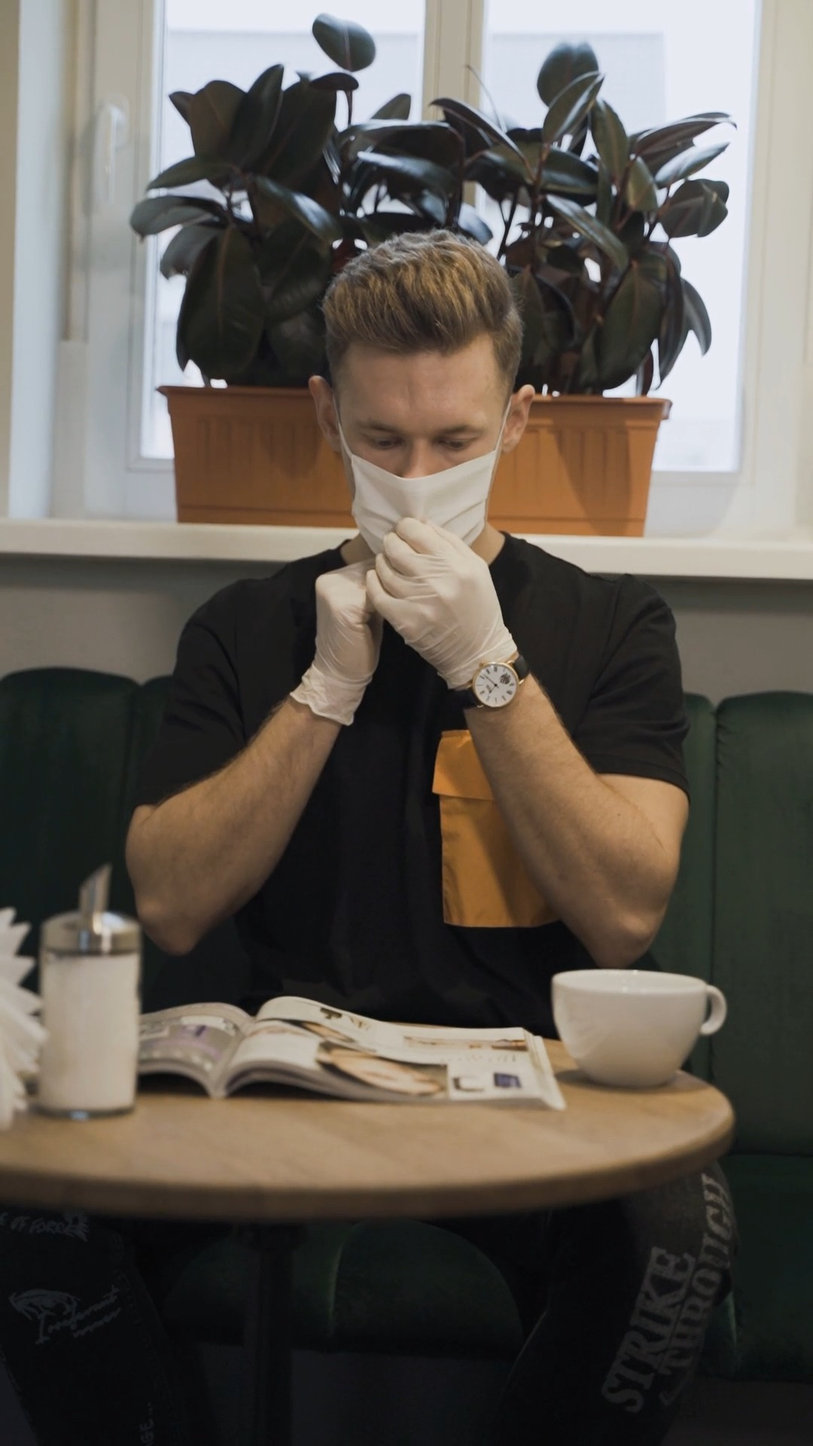gloves: (349, 526, 570, 710), (286, 550, 402, 733)
